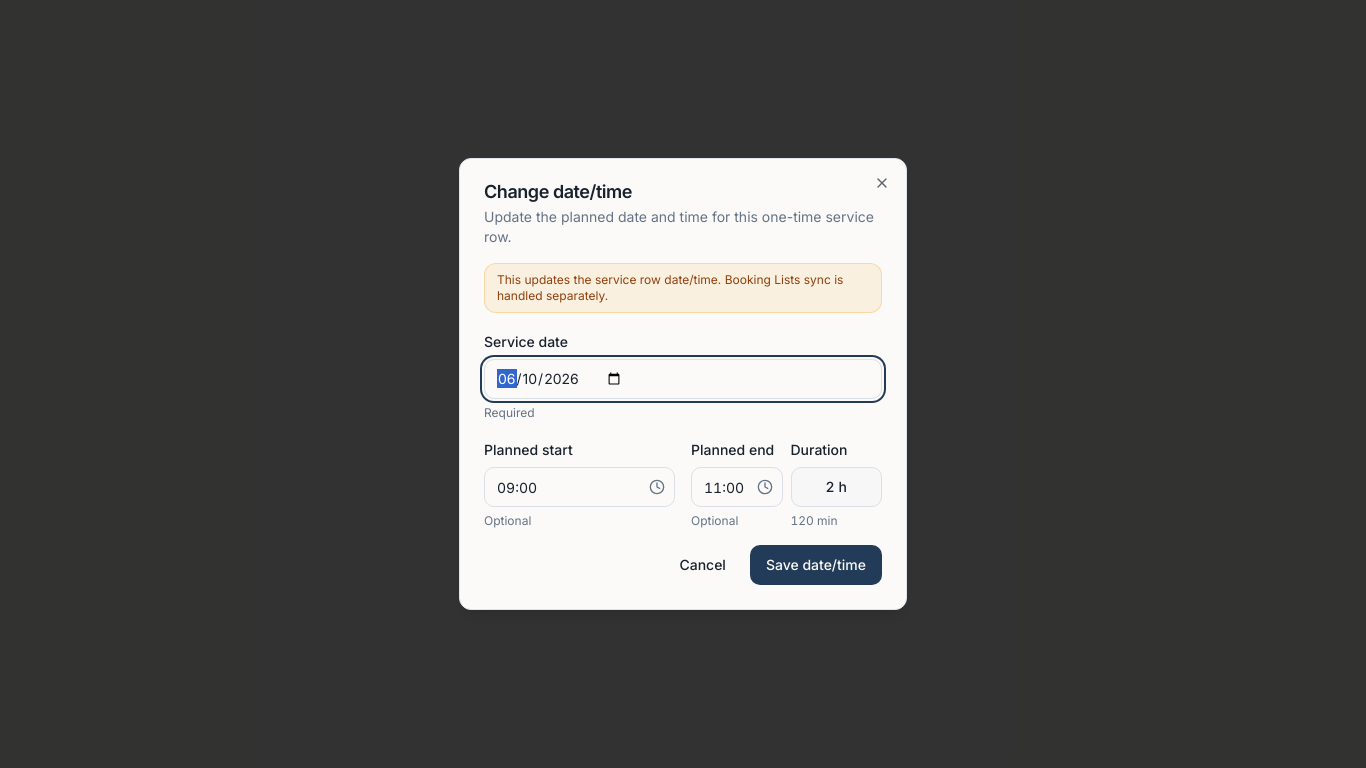
CORE-WRITES-WORKORDERS-A1.2.4a ChangeDateTimeDialog › fails closed for recurring rows before the mutation
Click the button "Save date/time" at (816,565), box [750,545,882,585]
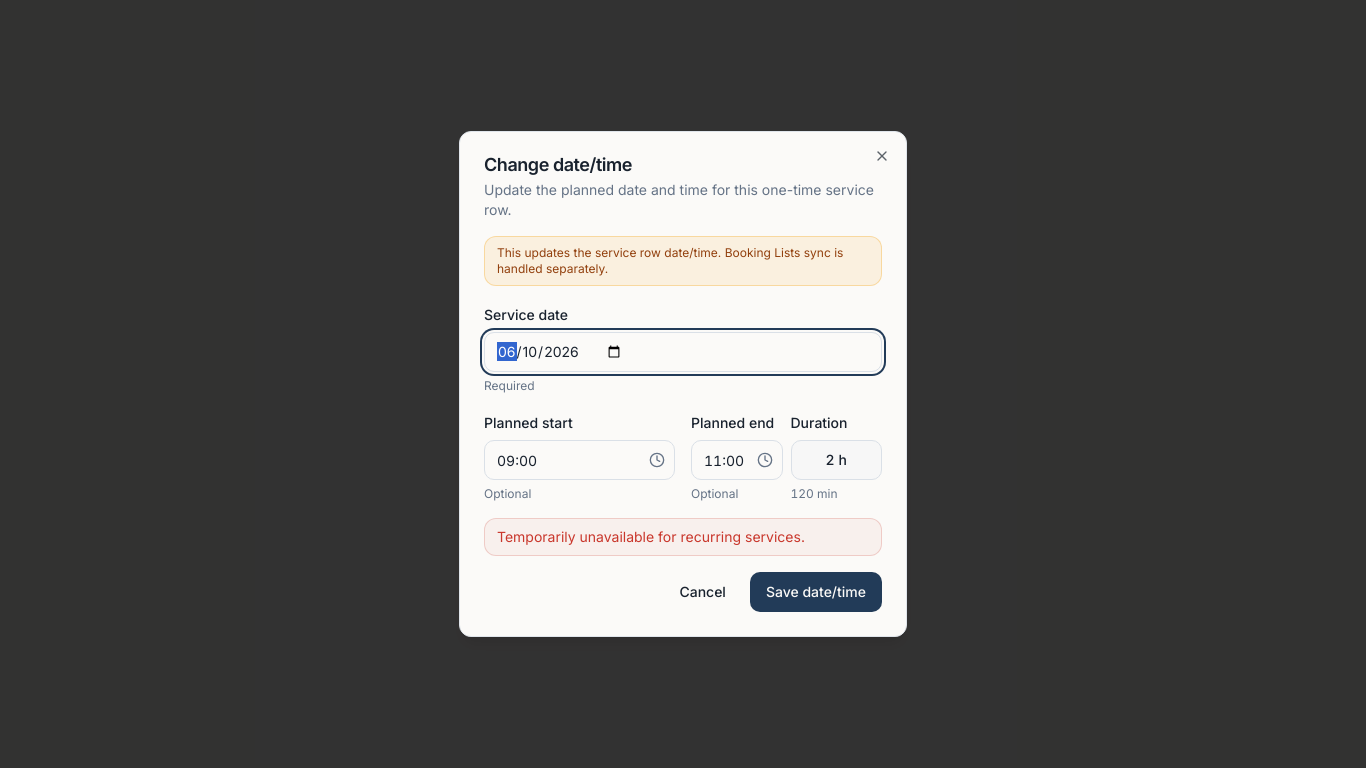
Expected: the text "Temporarily unavailable for recurring services." is shown, [484,518,882,556]
